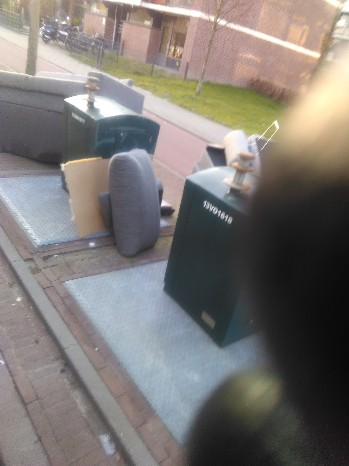Container: (193, 173, 278, 360), (67, 92, 160, 154)
Rest: (110, 160, 181, 262), (16, 62, 75, 166), (60, 155, 117, 216), (195, 121, 265, 165)
